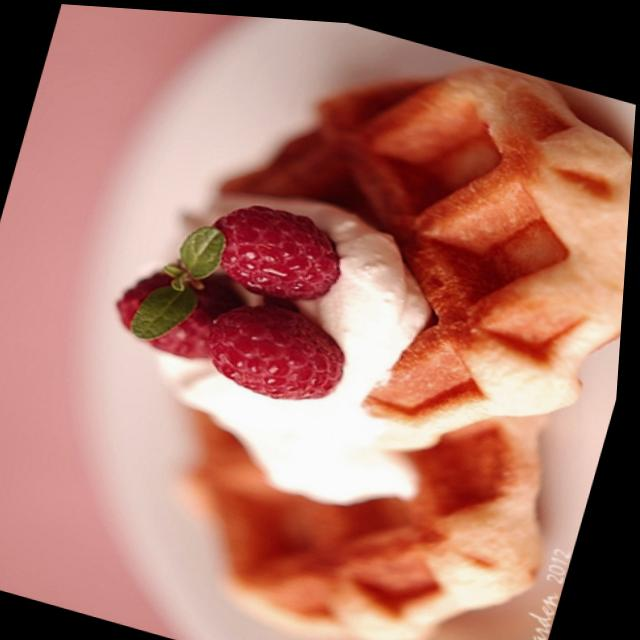炸货点心: (31, 3, 640, 640)
蛋糕甜品: (31, 3, 640, 640)
